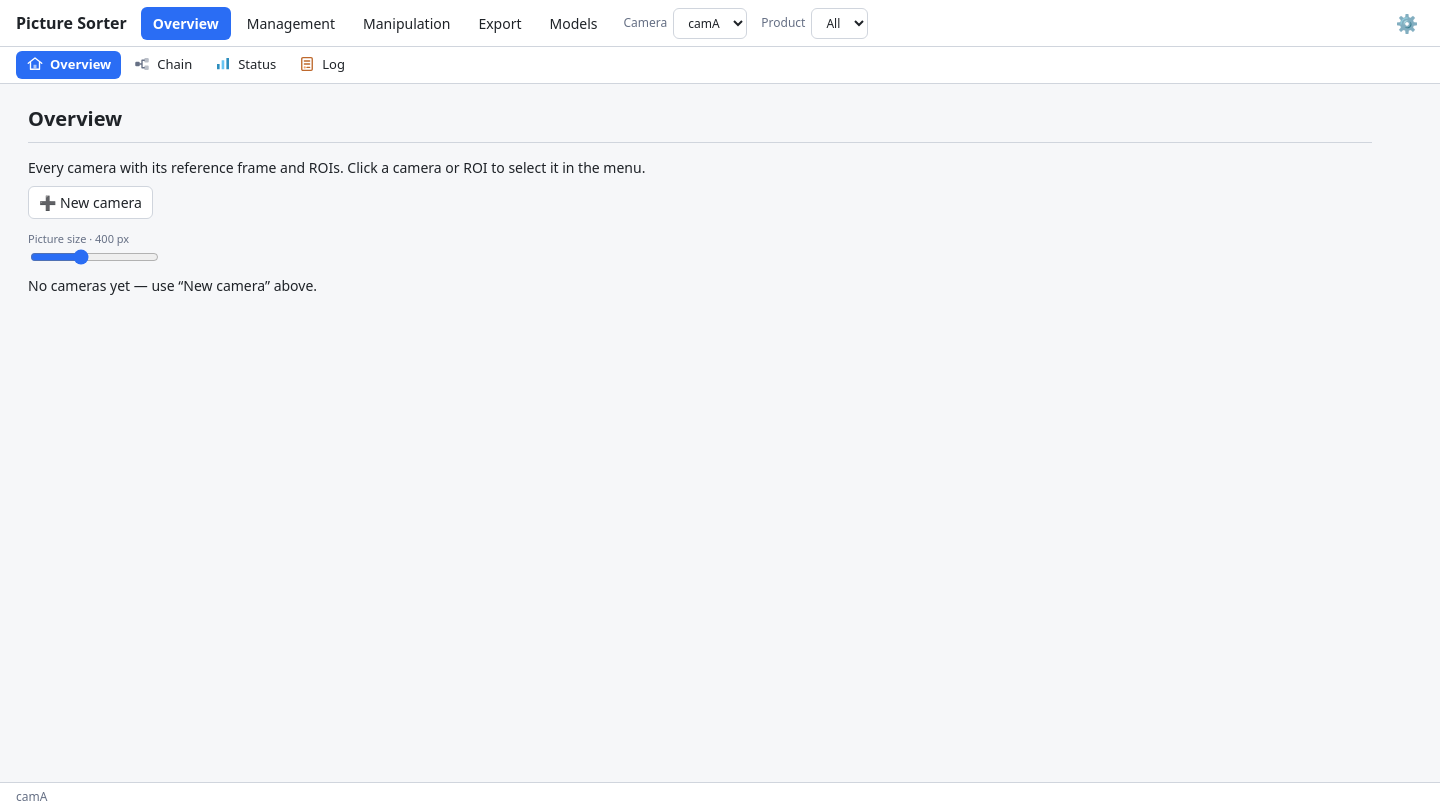
it: hides the product picker for cameras without products
Expected: the dropdown labelled "Product" is shown, [811,8,868,38]
Select "camB" in the dropdown labelled "Camera" at coordinates (710, 23), box [673,8,747,38]
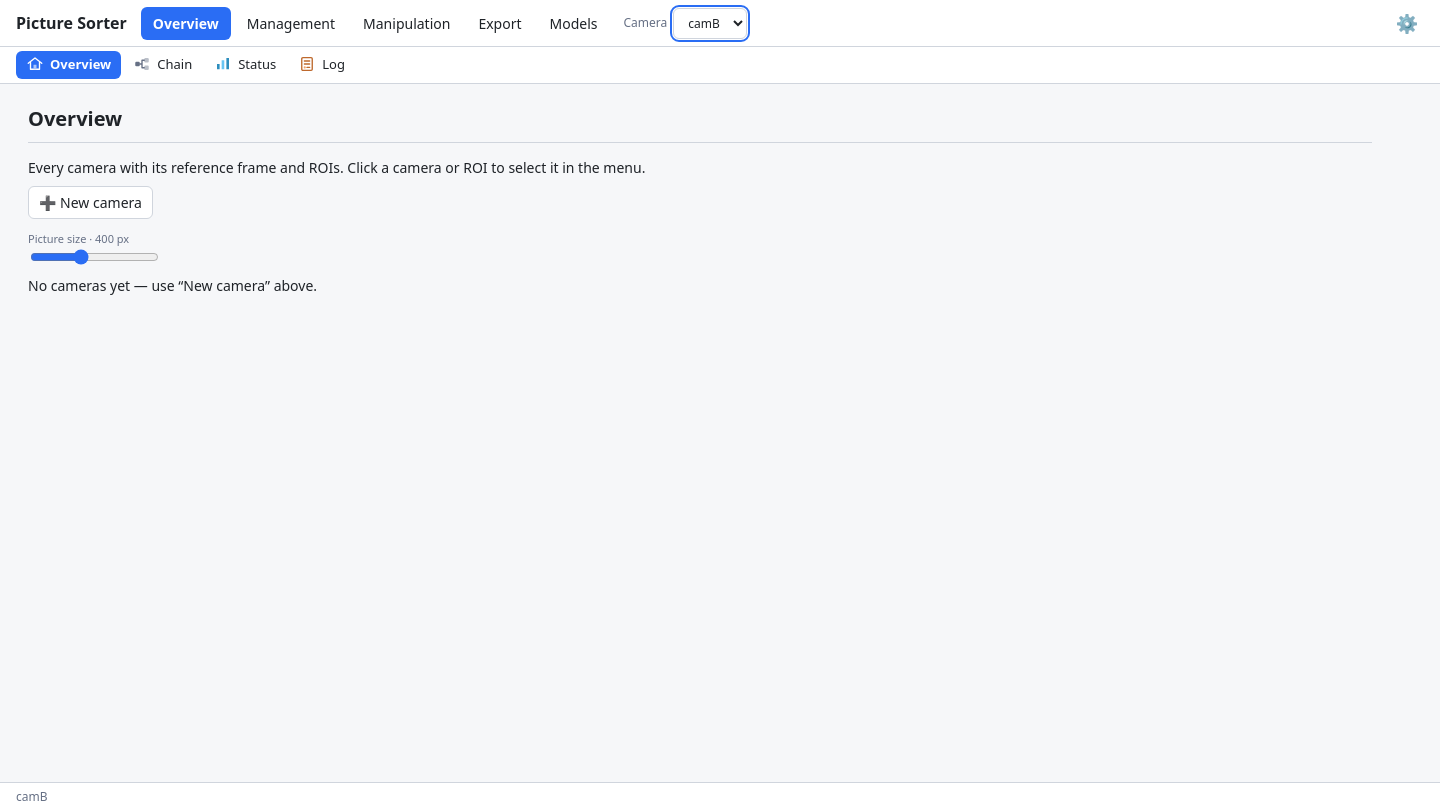
Expected: the label labelled "Product" is gone
